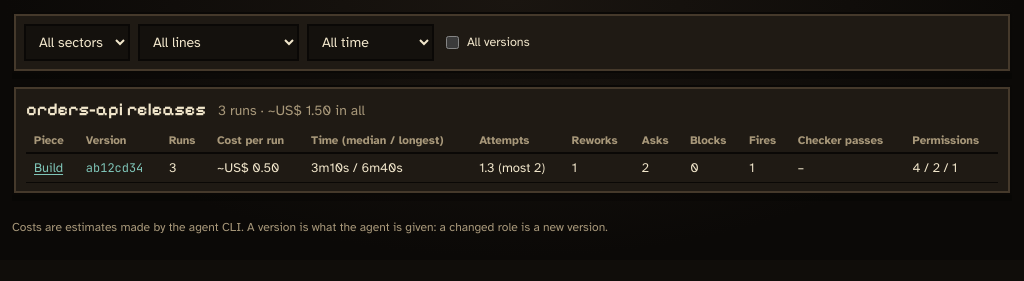
Test: The Metrics tab › lists the earlier versions of a piece below its current one when asked, marked as earlier
Click the checkbox labelled "All versions": (452,42) x1=446 y1=36 x2=459 y2=49
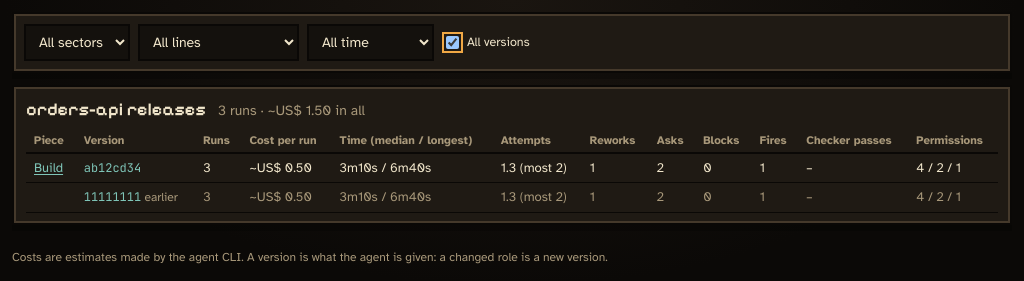
Check: the text "earlier" is shown, box x1=141 y1=190 x2=178 y2=204
